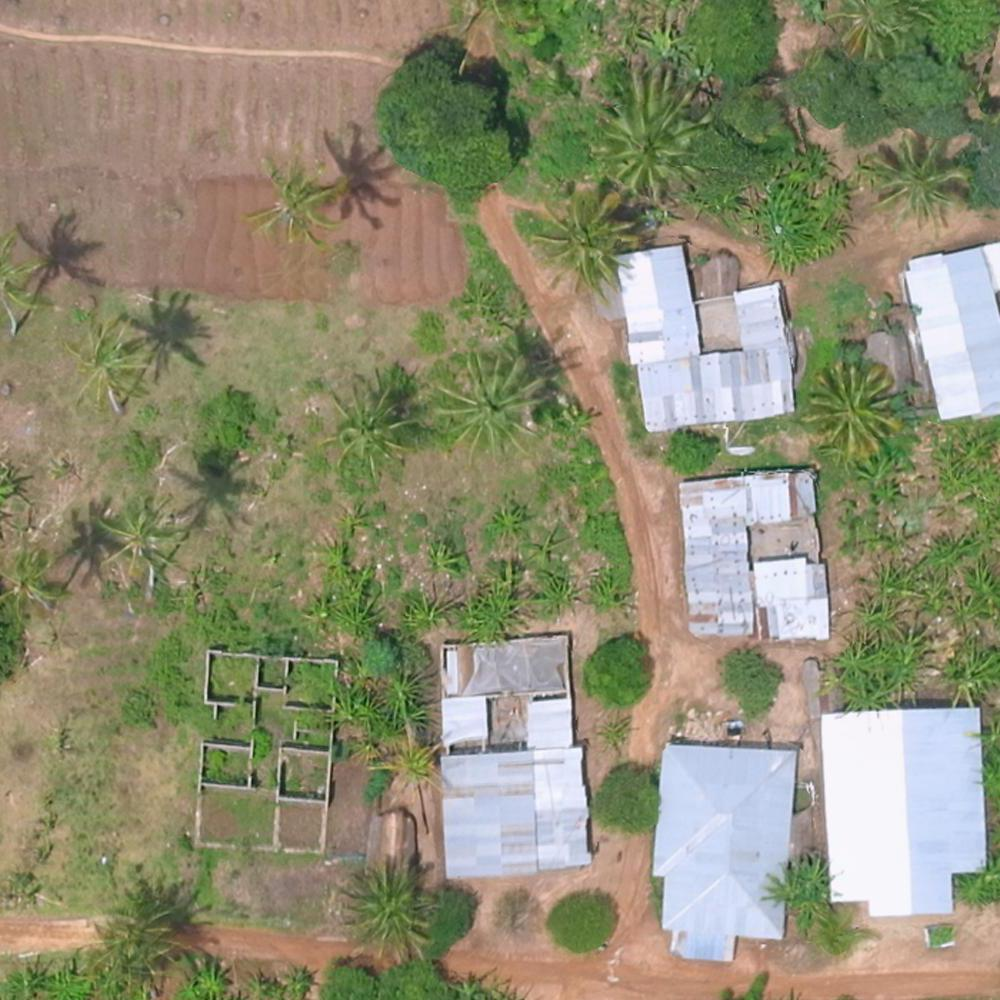Palm: (587, 80, 698, 182), (434, 347, 541, 451), (530, 191, 640, 289), (316, 381, 413, 474), (807, 358, 899, 455), (340, 865, 435, 958), (870, 133, 959, 222), (247, 152, 336, 241), (98, 496, 180, 580), (68, 323, 151, 404)
